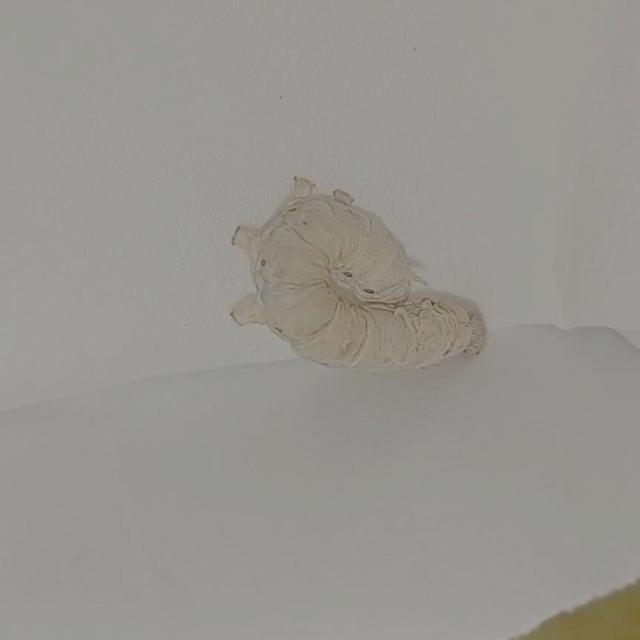Healthy: (175, 129, 507, 403)
